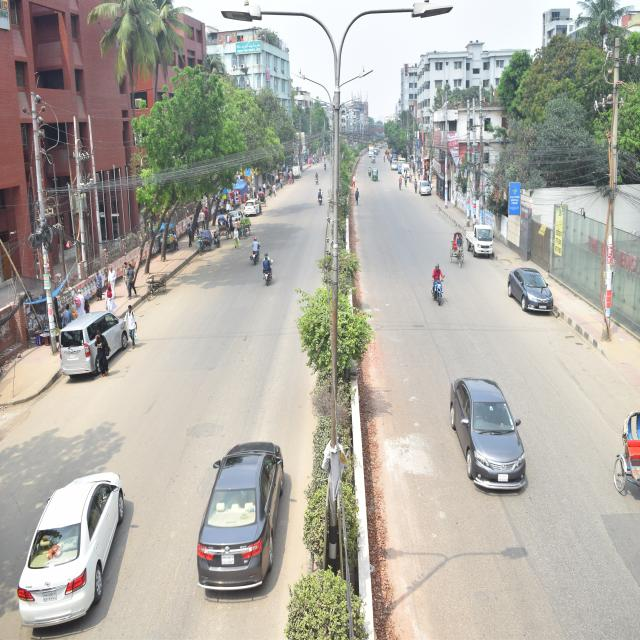car: (432, 334, 545, 552), (189, 386, 297, 606), (12, 451, 150, 616), (40, 280, 156, 398), (503, 256, 582, 334), (218, 193, 250, 250), (410, 166, 440, 213), (242, 184, 265, 220), (386, 152, 399, 174)
motorbike: (412, 241, 452, 309), (244, 245, 288, 300), (301, 181, 335, 220), (240, 225, 266, 259), (309, 166, 321, 193), (364, 159, 372, 189), (320, 156, 328, 179)
pickup-van: (461, 205, 499, 275)
